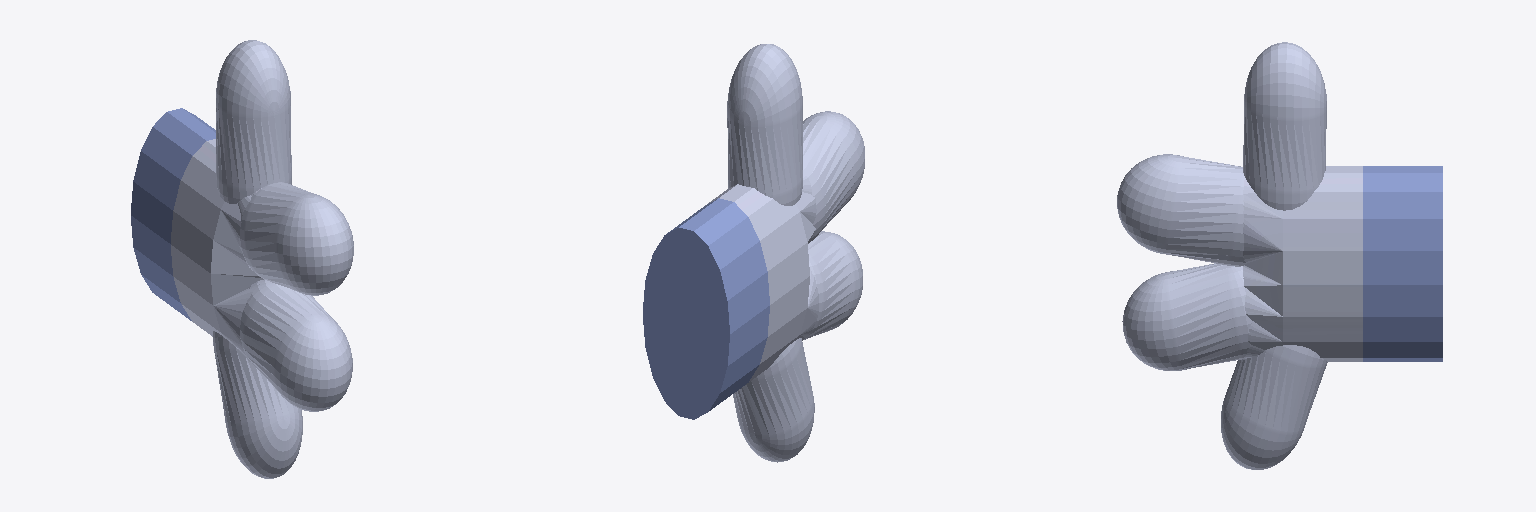
The picture shows the model from 3 angles: view 1: azimuth 30°, elevation 25°; view 2: azimuth 150°, elevation 25°; view 3: azimuth 270°, elevation 25°; orthographic projection.
Parts seen in each view (by area): view 1: Cylinder014; view 2: Cylinder014; view 3: Cylinder014.
Part boxes in pixels (left/top/right/bottom): Cylinder014: left=131, top=40, right=353, bottom=478; Cylinder014: left=643, top=44, right=864, bottom=462; Cylinder014: left=1117, top=42, right=1442, bottom=469.
Size of the model in its own units: 6.06 by 28.02 by 19.53.
Materials: 1 (1 with a texture image).